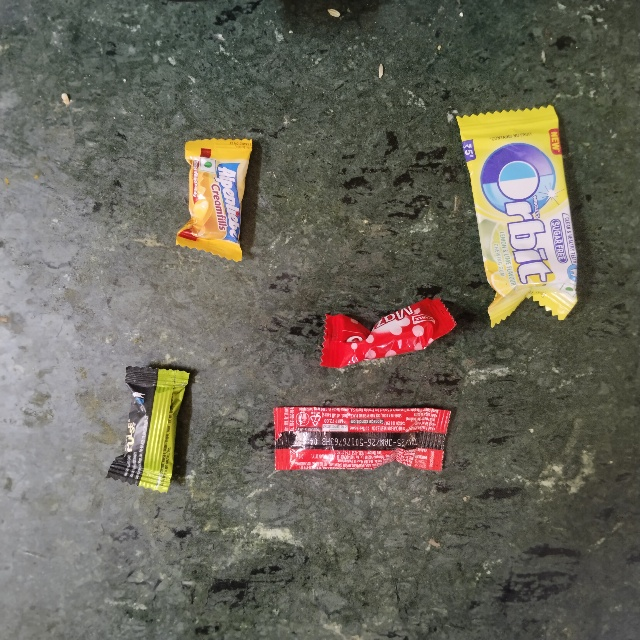Alpenlibe Creamfills: (181, 139, 254, 260)
Mazelo: (327, 300, 462, 368)
Nescafe Coffee: (272, 403, 450, 473)
Orbit: (453, 119, 560, 332)
Pulse: (128, 357, 200, 490)
